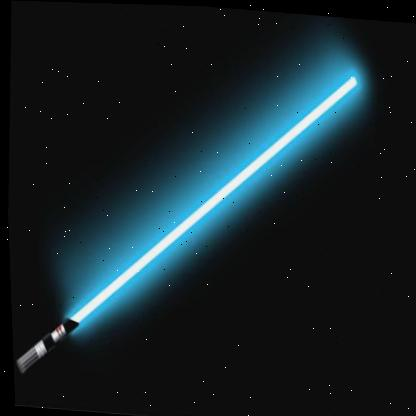lightsaber: (2, 43, 374, 404)
